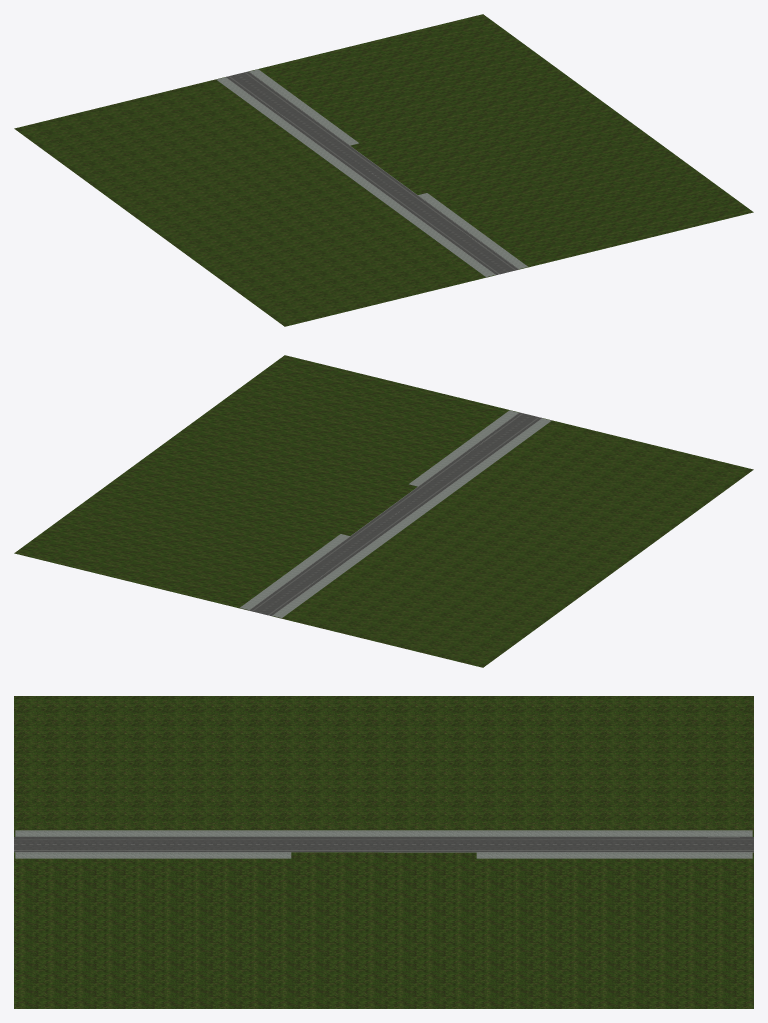
File: level_01.glb
3 views of the same model, one above another, from view 1: azimuth 30°, elevation 25°; view 2: azimuth 150°, elevation 25°; view 3: azimuth 270°, elevation 25° (orthographic). The views are drawn at different scales.
Visible parts, largest first — view 1: tierra, acera (×3); view 2: tierra, acera (×3); view 3: tierra, acera (×3).
Boxes of the visible parts, bbox=[...] form: tierra: bbox=[14, 14, 753, 326]; acera (×3): bbox=[216, 69, 527, 277]; tierra: bbox=[14, 355, 753, 667]; acera (×3): bbox=[240, 410, 551, 618]; tierra: bbox=[14, 696, 753, 1008]; acera (×3): bbox=[15, 830, 752, 858].
Bounding box in the file's own units: 200 × 0.0625 × 200.
Materials: 6 (6 with a texture image).
